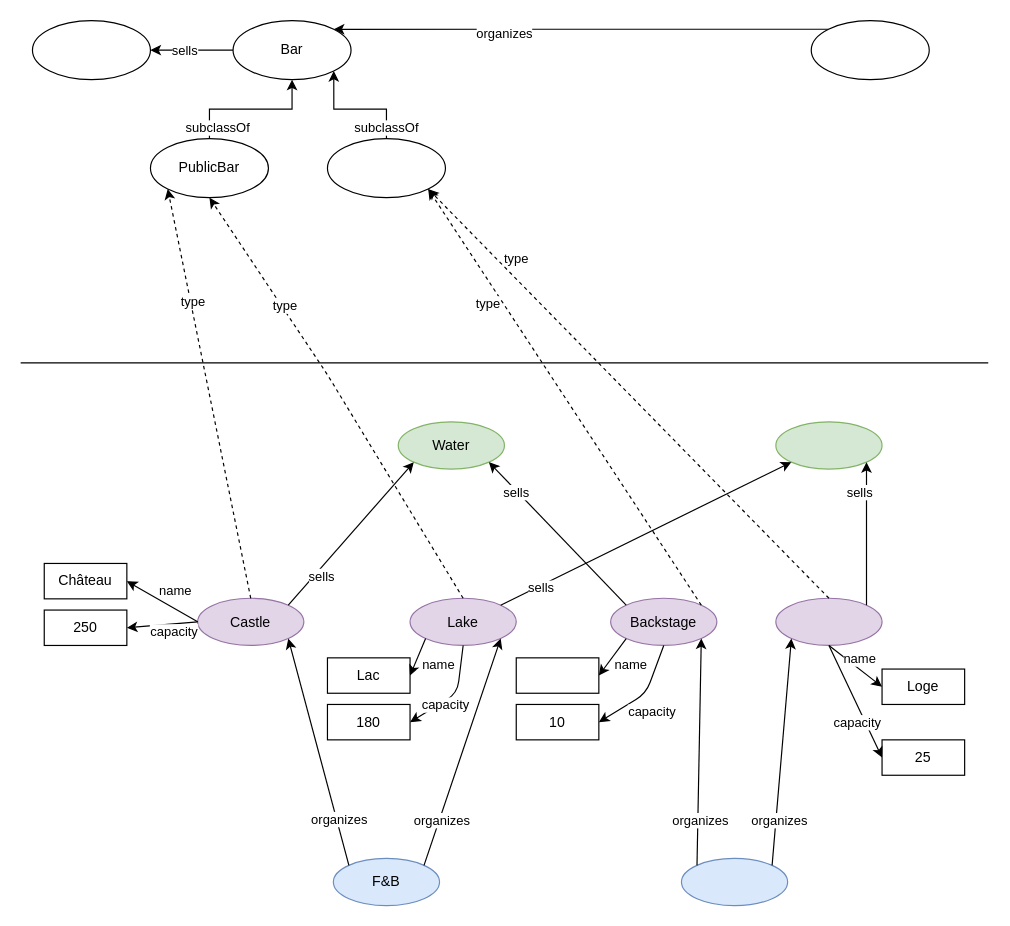
Some shapes in this 1010 by 926 pixel diagram are drawn without their labels. The shapes that lost their labels are listed below. From the top down, each one's centre as x and y in pixels, then its label:
point (90, 49): Beverage
point (869, 49): Dicastery
point (385, 167): LimitedBar
point (828, 445): Beer
point (828, 621): VIP
point (557, 675): Back
point (734, 881): Art&VIP
